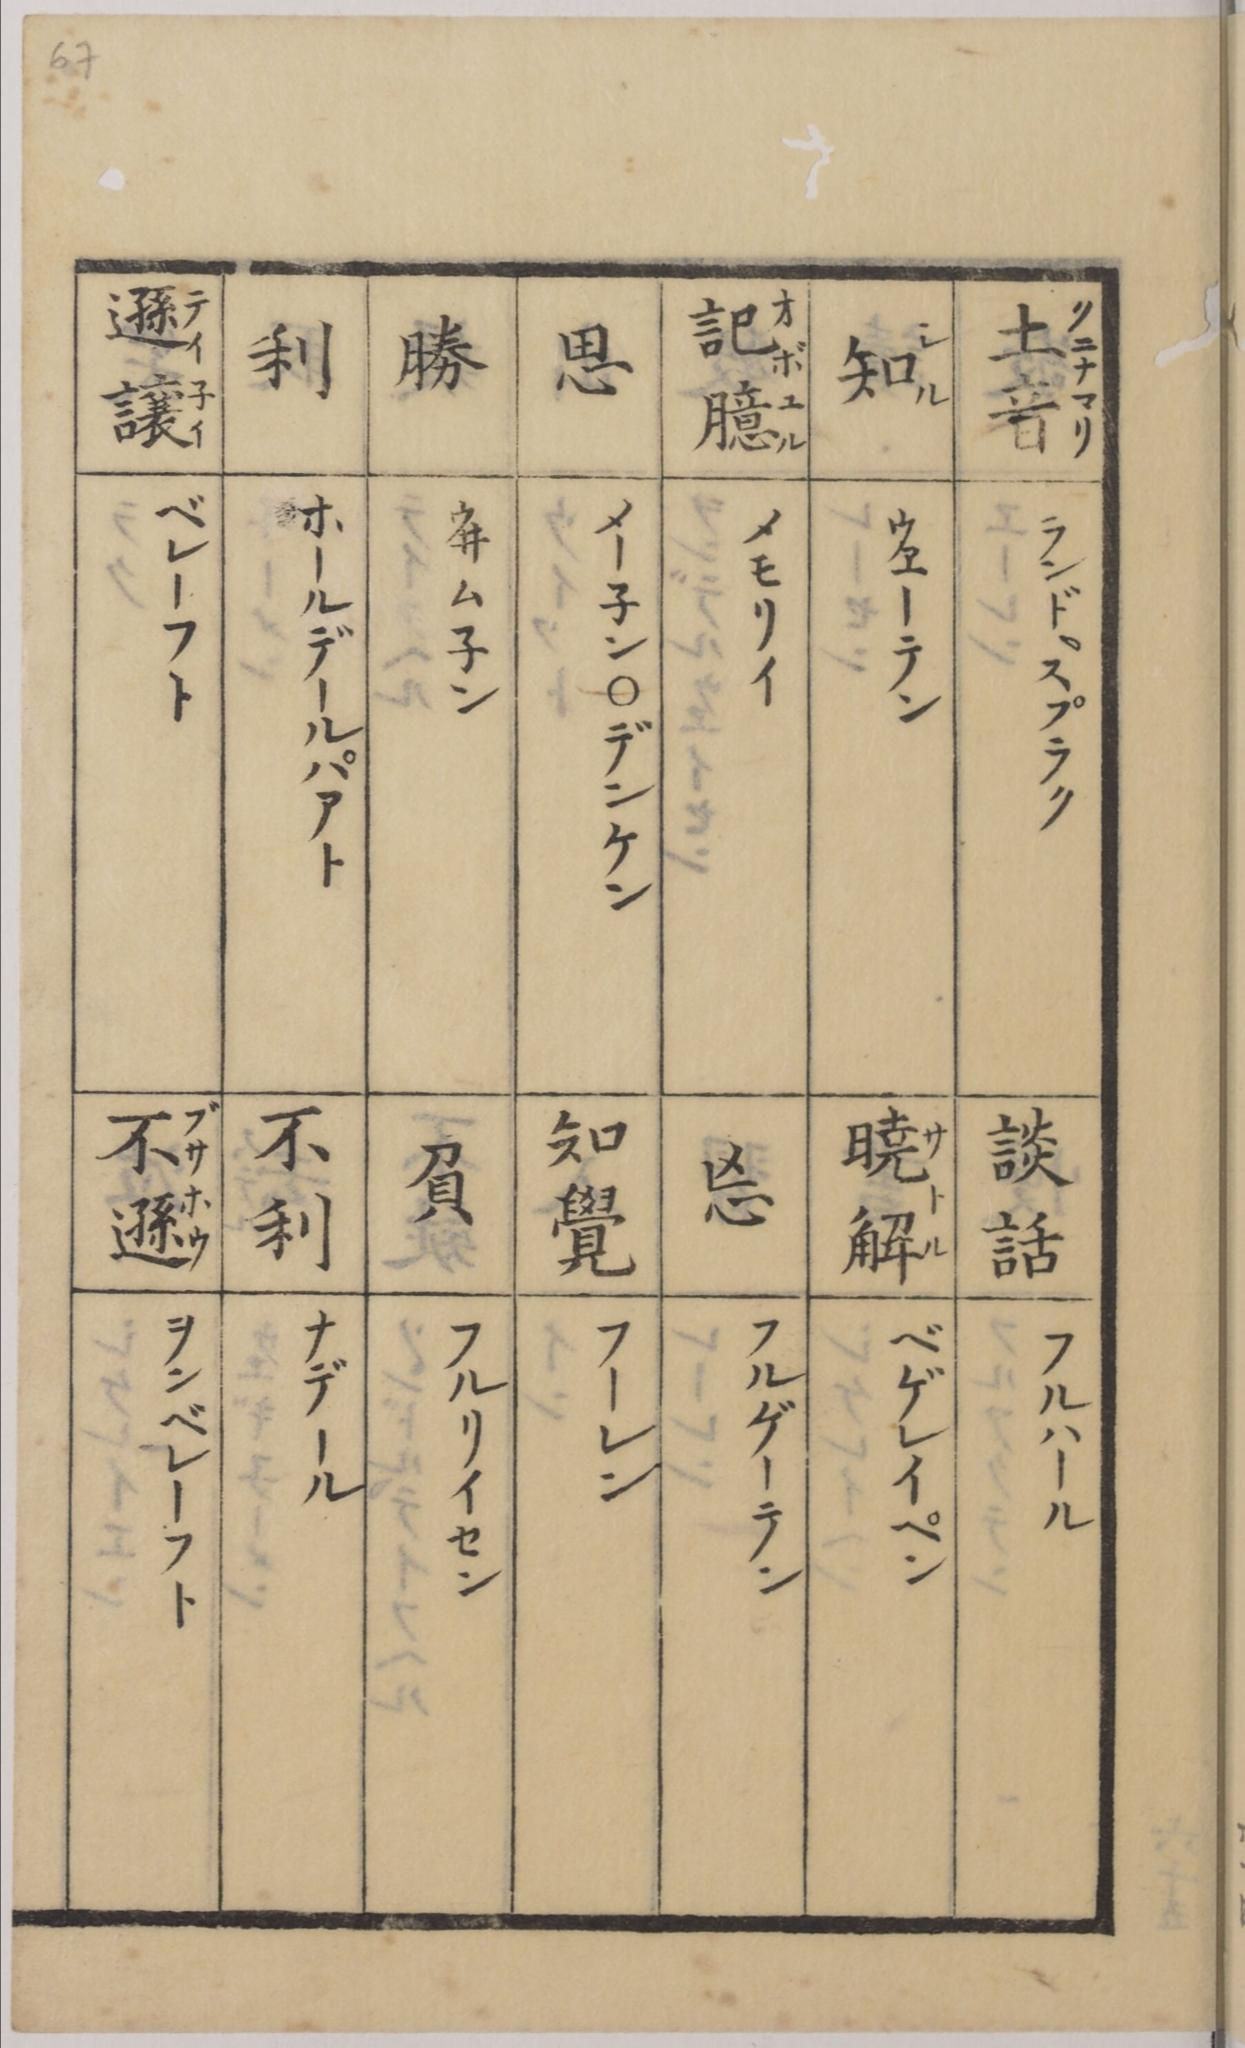MainZone-Character: (94, 1179, 221, 1277), (837, 1102, 952, 1208), (683, 288, 812, 380), (983, 374, 1110, 464), (91, 1100, 225, 1179), (95, 370, 215, 456), (95, 278, 215, 363), (988, 291, 1100, 377), (834, 1207, 951, 1286), (688, 382, 809, 455)
MainZone-Ruby: (764, 290, 808, 376), (176, 1182, 214, 1271), (1062, 291, 1099, 374), (180, 1102, 218, 1176), (919, 1115, 949, 1207), (770, 391, 805, 458), (183, 374, 212, 455), (180, 287, 211, 363), (1067, 388, 1097, 456), (922, 1224, 947, 1262)
